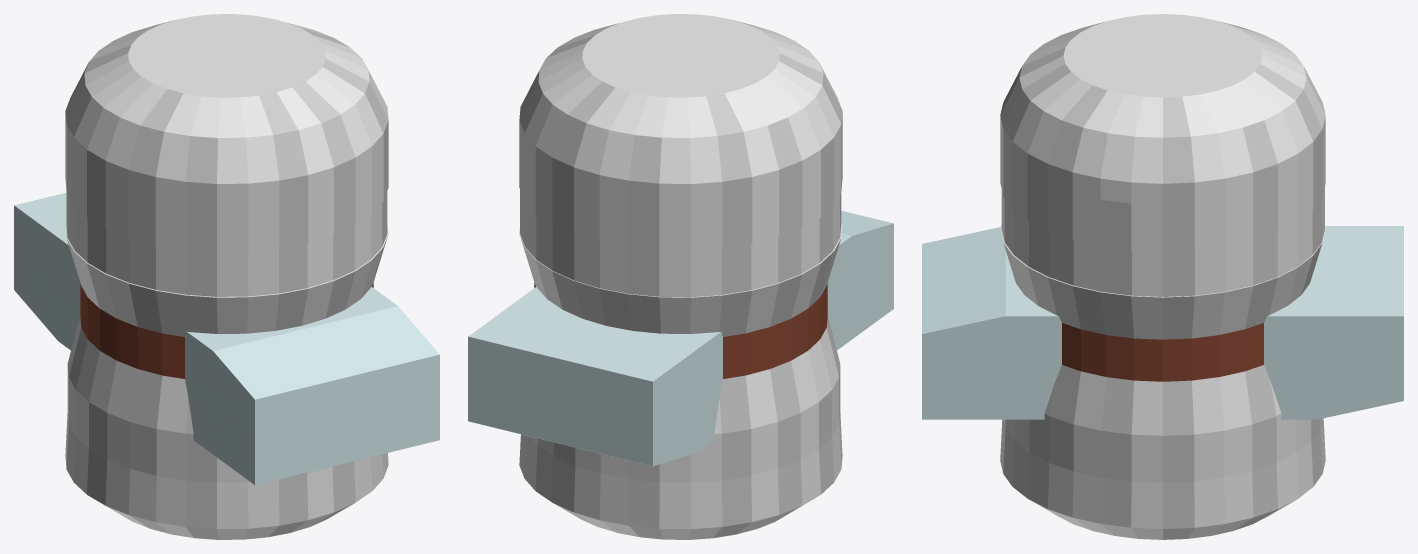
Rendered from string.gltf.
3 renders of one model, left to right at view 1: azimuth 30°, elevation 25°; view 2: azimuth 150°, elevation 25°; view 3: azimuth 270°, elevation 25°, orthographic.
Visible parts, largest first — view 1: Cylinder, Cube; view 2: Cylinder, Cube; view 3: Cylinder, Cube.
Part boxes in pixels (bbox=[...]): Cylinder: bbox=[65, 14, 388, 539]; Cube: bbox=[14, 193, 439, 485]; Cylinder: bbox=[519, 14, 842, 539]; Cube: bbox=[468, 210, 893, 466]; Cylinder: bbox=[1000, 14, 1325, 539]; Cube: bbox=[922, 226, 1403, 419].
Bounding box in the file's own units: 1.54 × 2.26 × 2.29.
